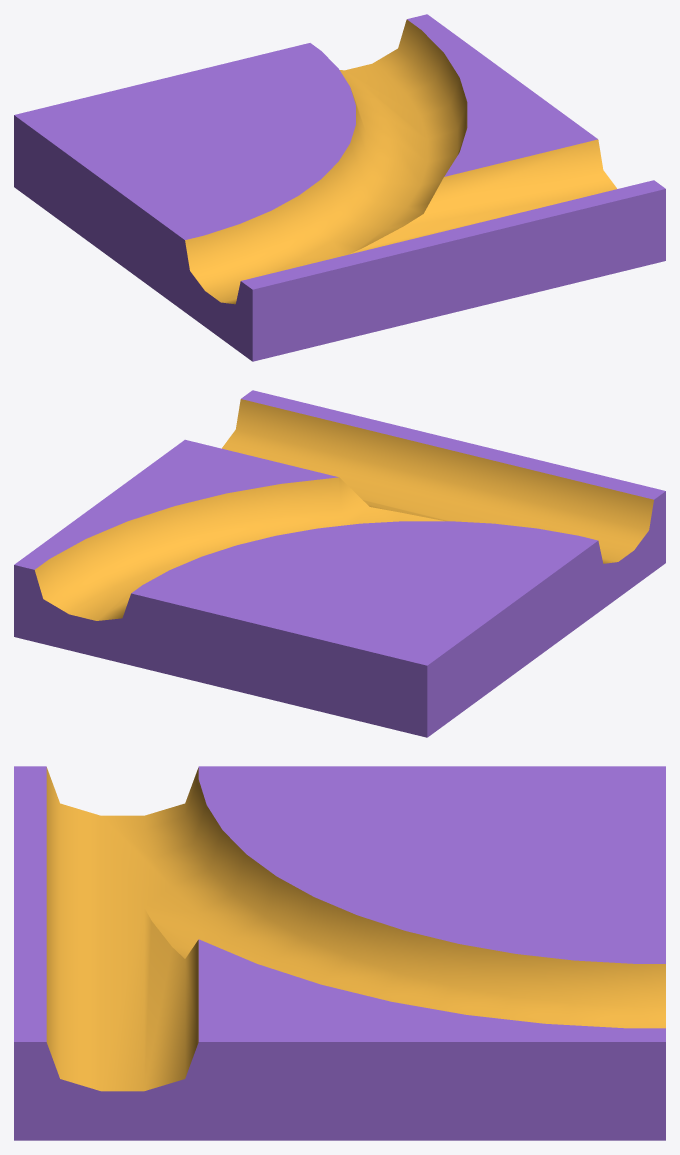
The model's file is split-large-solid-left.glb.
3 views of the same model, one above another, from view 1: azimuth 30°, elevation 25°; view 2: azimuth 150°, elevation 25°; view 3: azimuth 270°, elevation 25° (orthographic). The views are drawn at different scales.
Visible parts, largest first — view 1: split-large-solid-left; view 2: split-large-solid-left; view 3: split-large-solid-left.
Boxes of the visible parts, bbox=[...] form: split-large-solid-left: bbox=[14, 14, 665, 361]; split-large-solid-left: bbox=[14, 390, 665, 737]; split-large-solid-left: bbox=[14, 766, 665, 1140].
Bounding box in the file's own units: 3 × 0.4999 × 3.
1 material, 1 textured.
